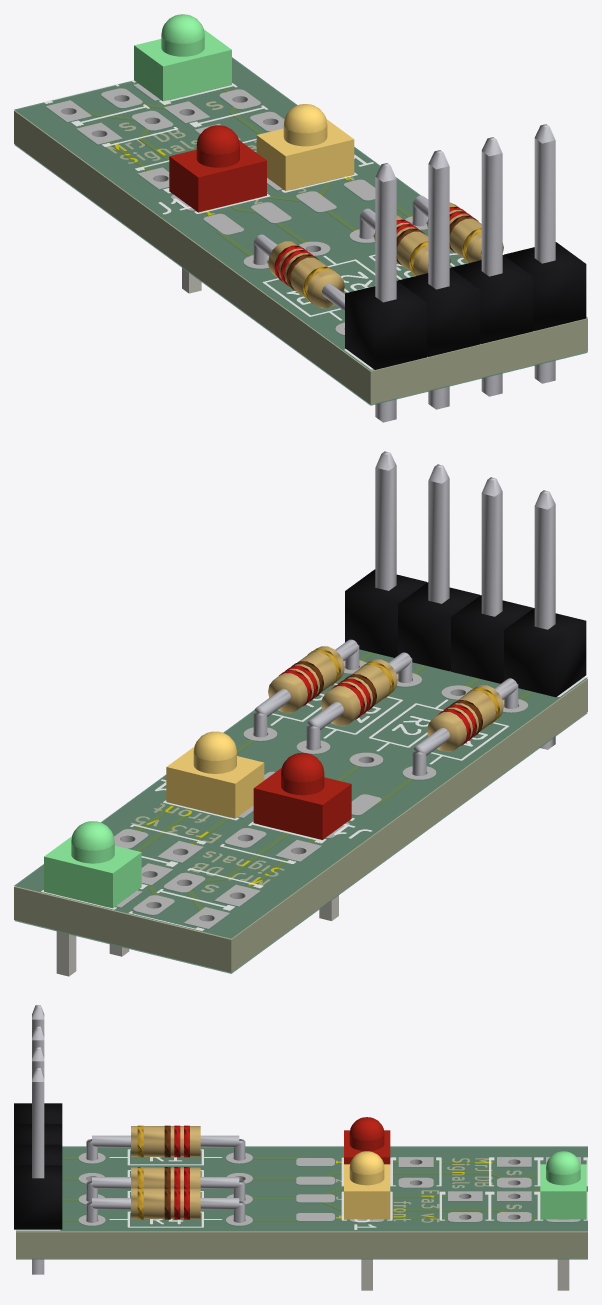
The model's file is MrJ-DB-Era3-breadboard-entry-Hp2.glb.
3 renders of one model, top to bottom at view 1: azimuth 30°, elevation 25°; view 2: azimuth 150°, elevation 25°; view 3: azimuth 270°, elevation 25°, orthographic. The views are drawn at different scales.
Visible parts, largest first — view 1: =>[0:1:1:17], =>[0:1:1:3] (×4), =>[0:1:1:15], =>[0:1:1:5] (×3), =>[0:1:1:13], =>[0:1:1:9], =>[0:1:1:11], =>[0:1:1:7], =>[0:1:1:14], =>[0:1:1:12], =>[0:1:1:16]; view 2: =>[0:1:1:17], =>[0:1:1:15], =>[0:1:1:3] (×4), =>[0:1:1:5] (×3), =>[0:1:1:13], =>[0:1:1:11], =>[0:1:1:9], =>[0:1:1:7], =>[0:1:1:14], =>[0:1:1:12], =>[0:1:1:16]; view 3: =>[0:1:1:17], =>[0:1:1:15], =>[0:1:1:5] (×3), =>[0:1:1:3] (×4), =>[0:1:1:13], =>[0:1:1:11], =>[0:1:1:7], =>[0:1:1:14], =>[0:1:1:9], =>[0:1:1:12], =>[0:1:1:16].
Part boxes in pixels (<box>): =>[0:1:1:17]: <box>14,59,587,404</box>; =>[0:1:1:3] (×4): <box>345,124,586,422</box>; =>[0:1:1:15]: <box>14,57,587,370</box>; =>[0:1:1:5] (×3): <box>253,195,503,311</box>; =>[0:1:1:13]: <box>46,83,427,335</box>; =>[0:1:1:9]: <box>169,125,266,293</box>; =>[0:1:1:11]: <box>134,14,231,101</box>; =>[0:1:1:7]: <box>256,104,354,190</box>; =>[0:1:1:14]: <box>44,80,586,369</box>; =>[0:1:1:12]: <box>87,88,412,256</box>; =>[0:1:1:16]: <box>14,144,587,405</box>; =>[0:1:1:17]: <box>14,650,587,972</box>; =>[0:1:1:15]: <box>14,649,587,938</box>; =>[0:1:1:3] (×4): <box>345,451,586,749</box>; =>[0:1:1:5] (×3): <box>253,639,518,775</box>; =>[0:1:1:13]: <box>114,660,527,929</box>; =>[0:1:1:11]: <box>44,821,141,976</box>; =>[0:1:1:9]: <box>253,752,351,920</box>; =>[0:1:1:7]: <box>166,731,264,818</box>; =>[0:1:1:14]: <box>41,676,586,930</box>; =>[0:1:1:12]: <box>136,652,532,910</box>; =>[0:1:1:16]: <box>14,713,587,973</box>; =>[0:1:1:17]: <box>16,1148,587,1258</box>; =>[0:1:1:15]: <box>16,1146,587,1231</box>; =>[0:1:1:5] (×3): <box>86,1125,245,1222</box>; =>[0:1:1:3] (×4): <box>14,1005,62,1274</box>; =>[0:1:1:13]: <box>78,1153,580,1225</box>; =>[0:1:1:11]: <box>540,1151,586,1290</box>; =>[0:1:1:7]: <box>344,1151,390,1290</box>; =>[0:1:1:14]: <box>16,1149,587,1230</box>; =>[0:1:1:9]: <box>344,1117,390,1164</box>; =>[0:1:1:12]: <box>63,1157,539,1221</box>; =>[0:1:1:16]: <box>16,1258,587,1259</box>.
Size of the model in its own units: 0.0104 by 0.0127 by 0.0297.
